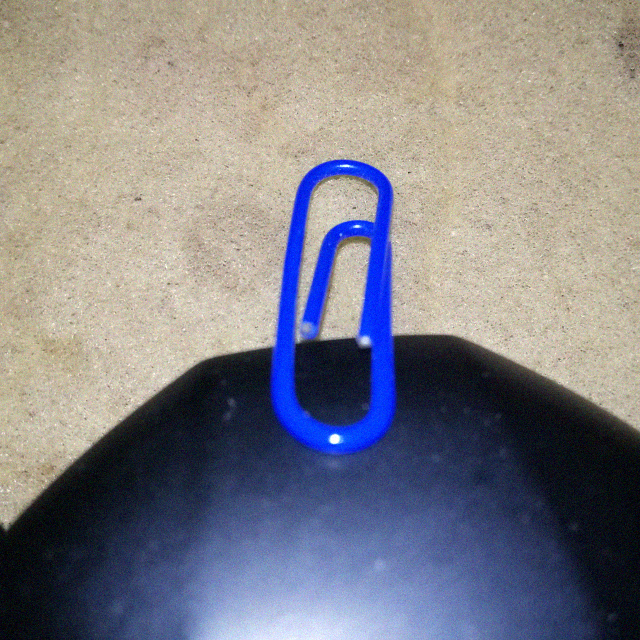pin: (268, 151, 400, 450)
